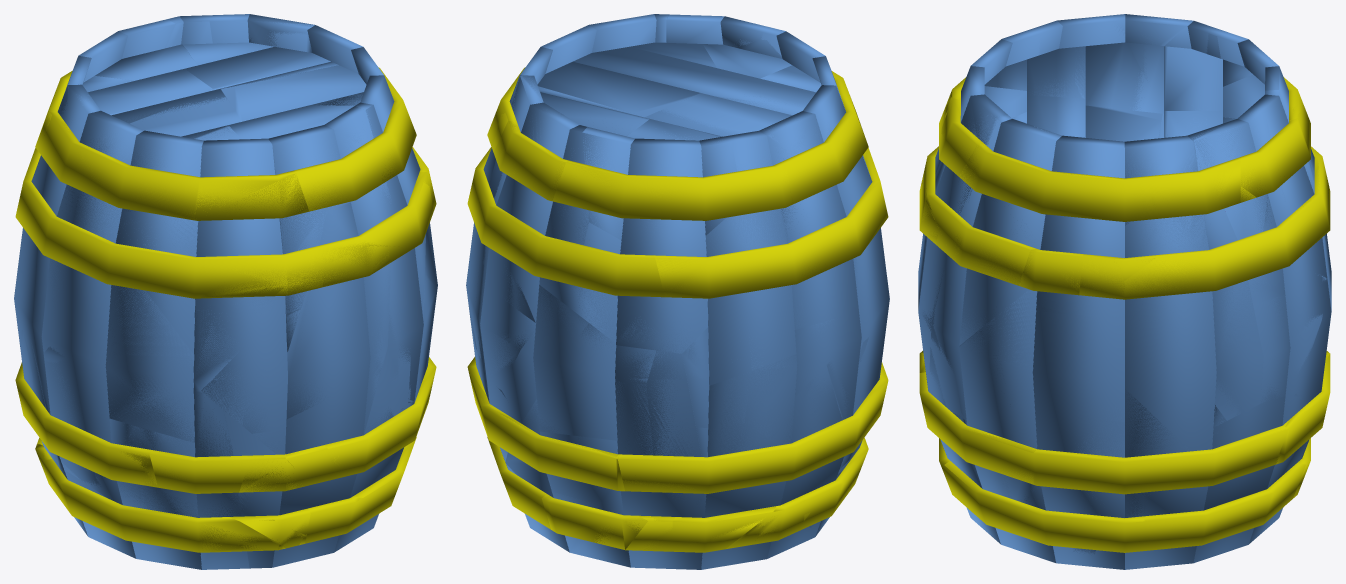
Rendered from Barrel.fbx.
3 renders of one model, left to right at view 1: azimuth 30°, elevation 25°; view 2: azimuth 150°, elevation 25°; view 3: azimuth 270°, elevation 25°, orthographic.
Parts seen in each view (by area): view 1: Barrel_cell_004, Barrel_cell_008, Barrel_cell_007_cell_002, Barrel_cell_009, Barrel_cell_009_cell, Barrel_cell_010, Barrel_cell_003_cell, Barrel_cell_005, Barrel_cell_003, Barrel_cell_, Barrel_cell_008_cell_002, Barrel_cell_011 (+62 smaller); view 2: Barrel_cell_012, Barrel_cell_014, Barrel_cell_011, Barrel_cell_015, Barrel_cell_013, Barrel_cell_004, Barrel_cell_005, Barrel_cell_003_cell, Barrel_cell_013_cell_002, Barrel_cell_003_cell_cell, Barrel_cell_012_cell_002, Barrel_cell_001_cell_002 (+61 smaller); view 3: Barrel_cell_018, Barrel_cell_017, Barrel_cell_019, Barrel_cell_004, Barrel_cell_005, Barrel_cell_003, Barrel_cell_015, Barrel_cell_003_cell_001, Barrel_cell_006, Barrel_cell_, Barrel_cell_016, Barrel_cell_004_cell_001 (+54 smaller).
Boxes of the visible parts, x1,y1,x2,y2 form: Barrel_cell_004: (15,148,432,297); Barrel_cell_008: (194,145,287,568); Barrel_cell_007_cell_002: (272,203,370,566); Barrel_cell_009: (106,135,202,569); Barrel_cell_009_cell: (105,130,203,442); Barrel_cell_010: (48,111,142,504); Barrel_cell_003_cell: (35,71,303,220); Barrel_cell_005: (15,368,436,493); Barrel_cell_003: (68,67,416,220); Barrel_cell_: (337,105,423,544); Barrel_cell_008_cell_002: (193,144,282,390); Barrel_cell_011: (14,85,94,535); Barrel_cell_012: (699,131,797,569); Barrel_cell_014: (533,125,630,506); Barrel_cell_011: (767,113,861,558); Barrel_cell_015: (480,102,577,549); Barrel_cell_013: (616,138,708,568); Barrel_cell_004: (467,147,888,296); Barrel_cell_005: (468,369,888,493); Barrel_cell_003_cell: (565,80,861,220); Barrel_cell_013_cell_002: (615,349,706,569); Barrel_cell_003_cell_cell: (552,162,792,220); Barrel_cell_012_cell_002: (706,354,797,514); Barrel_cell_001_cell_002: (573,46,815,115); Barrel_cell_018: (1032,135,1124,568); Barrel_cell_017: (1124,135,1216,569); Barrel_cell_019: (959,119,1061,552); Barrel_cell_004: (919,146,1329,299); Barrel_cell_005: (920,362,1330,494); Barrel_cell_003: (939,90,1310,219); Barrel_cell_015: (1237,94,1331,543); Barrel_cell_003_cell_001: (941,98,1240,221); Barrel_cell_006: (939,438,1286,552); Barrel_cell_: (919,115,1000,544); Barrel_cell_016: (1193,123,1289,563); Barrel_cell_004_cell_001: (1019,146,1328,294).
Bounding box in the file's own units: 10.83 × 11.9 × 10.56.
